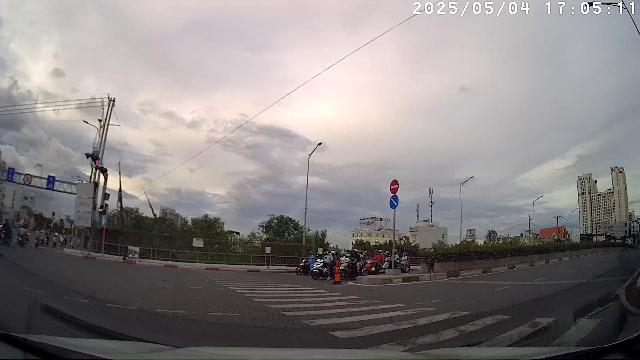102-cam-di-nguoc-chieu: (390, 179, 400, 194)
127-toc-do-toi-da-50: (23, 174, 32, 184)
302a-huong-phai-di-vong-chuong-ngai-vat-1: (389, 194, 398, 210)
